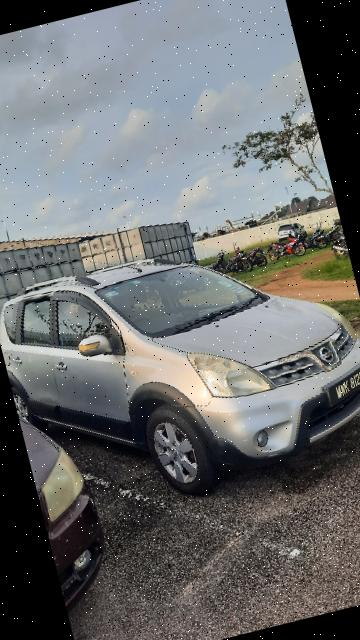License_Plate: (322, 363, 360, 409)
car: (1, 211, 360, 530)
